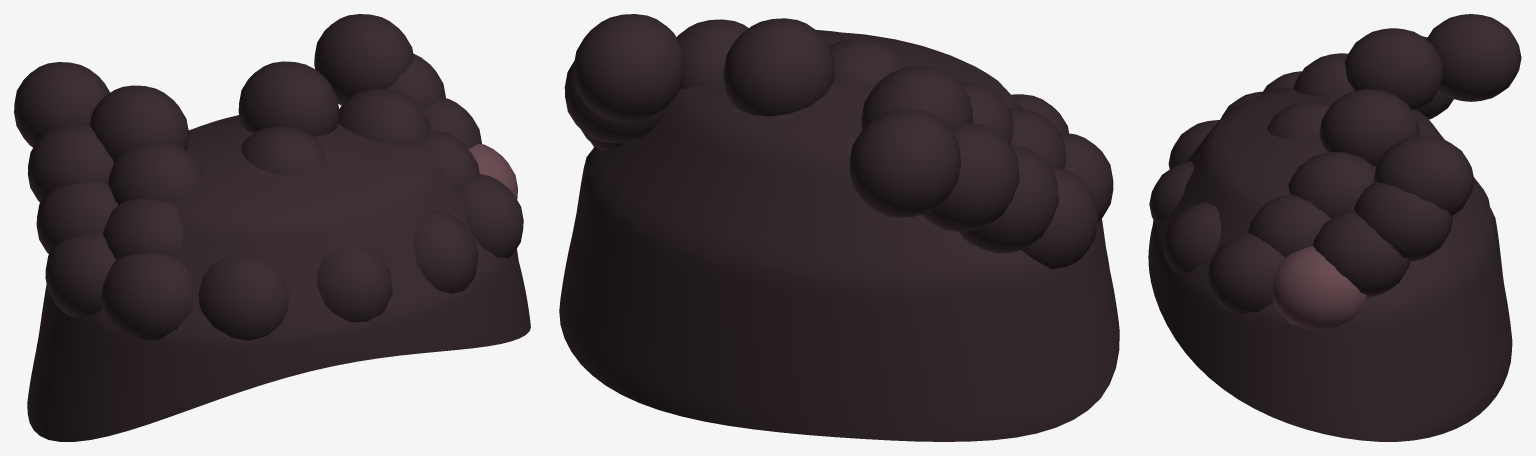
The model's file is studio_short_curls_default.glb.
3 views of the same model, side by side, from view 1: azimuth 30°, elevation 25°; view 2: azimuth 150°, elevation 25°; view 3: azimuth 270°, elevation 25° (orthographic). The views are drawn at different scales.
Parts seen in each view (by area): view 1: short_curls; view 2: short_curls; view 3: short_curls.
Boxes of the visible parts, left/top/right/bottom form: short_curls: left=14, top=14, right=530, bottom=441; short_curls: left=559, top=14, right=1119, bottom=441; short_curls: left=1148, top=14, right=1521, bottom=441.
Bounding box in the file's own units: 0.465 × 0.2925 × 0.3552.
